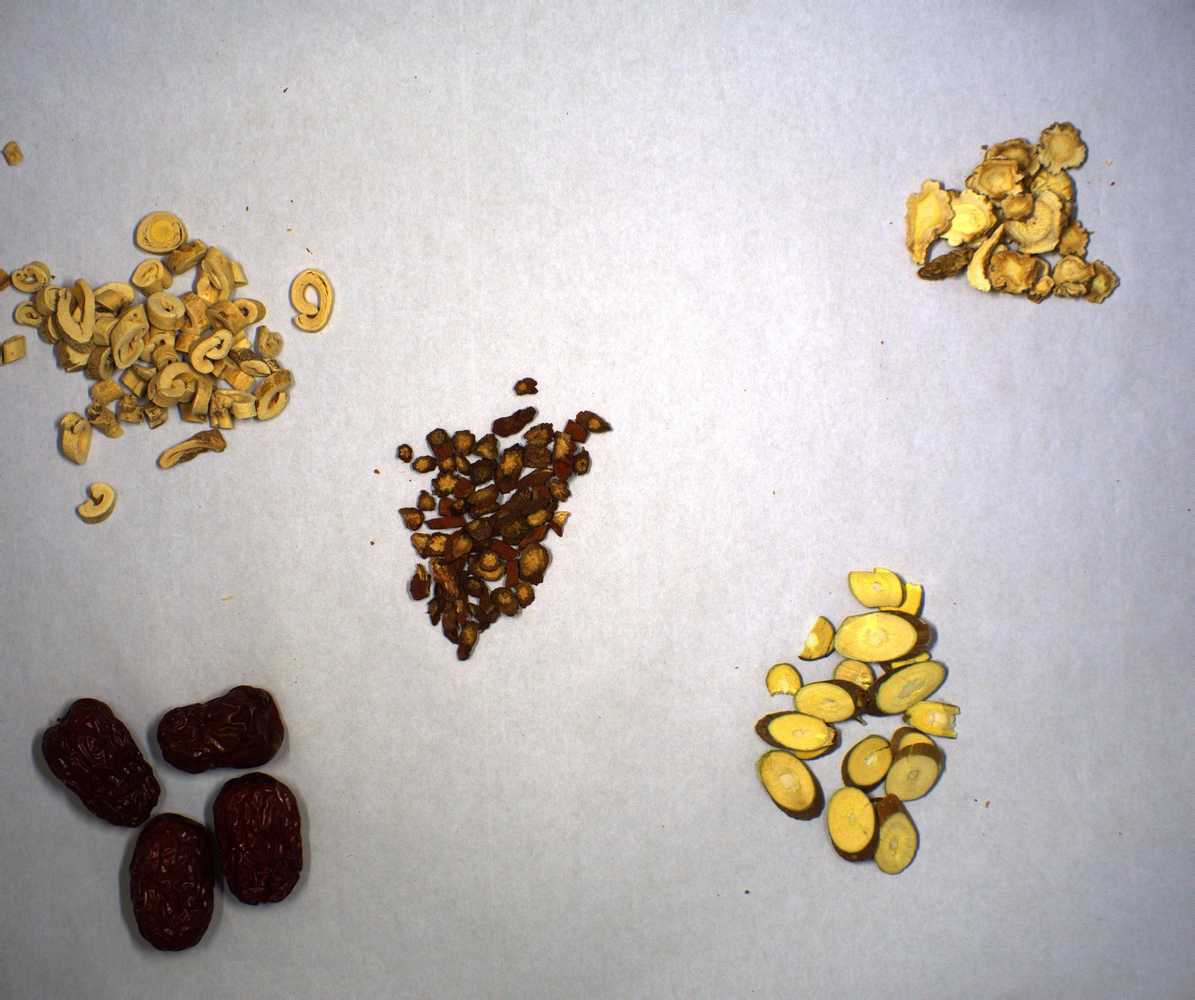baixianpi: (3, 213, 335, 528)
danshen: (380, 372, 607, 665)
dazao: (28, 686, 311, 965)
jiegeng: (900, 119, 1124, 310)
sangzhi: (756, 564, 955, 880)
